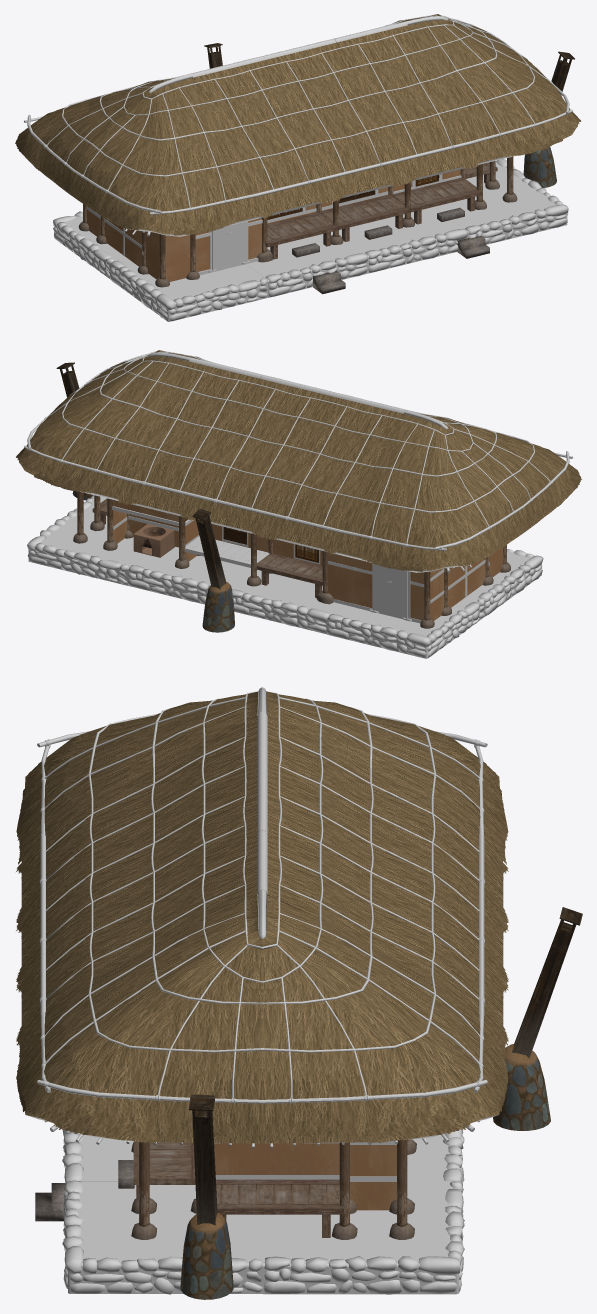
Rendered from Local_Personnel_Clerks_House_01.fbx.
3 views of the same model, one above another, from view 1: azimuth 30°, elevation 25°; view 2: azimuth 150°, elevation 25°; view 3: azimuth 270°, elevation 25° (orthographic). The views are drawn at different scales.
Parts seen in each view (by area): view 1: SM_Roof01a.040, SM_Roof01a.043, SM_Roof04a.017, SM_Roof04a.018, SM_Roof04a.016, SM_Roof01a.042, SM_Ground02a.036, SM_Ground01a.070, SM_Ground01a.068, SM_Ground01a.069, SM_Ground01a.066, SM_Ground02a.037 (+19 smaller); view 2: SM_Roof01a.042, SM_Roof01a.041, SM_Roof04a.018, SM_Roof04a.016, SM_Roof04a.017, SM_Roof01a.040, SM_Ground02a.035, SM_Ground01a.071, SM_Chimney01a.006, SM_Ground02a.038, SM_Ground01a.065, SM_Ground01a.067 (+23 smaller); view 3: SM_Roof01a.041, SM_Roof01a.043, SM_Roof04a.017, SM_Roof04a.018, SM_Roof04a.016, SM_Roof01a.040, SM_Roof01a.042, SM_Ground01a.071, SM_Ground01a.070, SM_Ground02a.038, SM_Chimney01a.005, SM_Chimney01a.006 (+13 smaller).
Part boxes in pixels (x1,y1,x2,y2): SM_Roof01a.040: (69,74,263,236); SM_Roof01a.043: (406,16,580,166); SM_Roof04a.017: (246,39,406,201); SM_Roof04a.018: (175,56,334,218); SM_Roof04a.016: (318,21,478,183); SM_Roof01a.042: (15,74,189,193); SM_Ground02a.036: (110,260,267,321); SM_Ground01a.070: (434,166,567,244); SM_Ground01a.068: (111,258,268,321); SM_Ground01a.069: (339,207,467,273); SM_Ground01a.066: (246,231,368,297); SM_Ground02a.037: (465,166,568,244); SM_Roof01a.042: (333,410,527,572); SM_Roof01a.041: (16,352,190,500); SM_Roof04a.018: (262,392,421,554); SM_Roof04a.016: (118,357,278,519); SM_Roof04a.017: (190,375,350,537); SM_Roof01a.040: (406,410,581,529); SM_Ground02a.035: (327,598,484,657); SM_Ground01a.071: (28,503,146,585); SM_Chimney01a.006: (192,508,234,632); SM_Ground02a.038: (27,501,128,584); SM_Ground01a.065: (232,570,343,634); SM_Ground01a.067: (327,595,484,658); SM_Roof01a.041: (262,889,508,1148); SM_Roof01a.043: (16,890,262,1148); SM_Roof04a.017: (16,771,508,985); SM_Roof04a.018: (16,711,508,926); SM_Roof04a.016: (16,830,508,1045); SM_Roof01a.040: (16,687,262,864); SM_Roof01a.042: (262,687,508,864); SM_Ground01a.071: (263,1182,459,1294); SM_Ground01a.070: (68,1181,263,1293); SM_Ground02a.038: (264,1181,464,1294); SM_Chimney01a.005: (180,1094,233,1299); SM_Chimney01a.006: (493,907,582,1130).
Bounding box in the file's own units: 1462 × 545 × 872.
